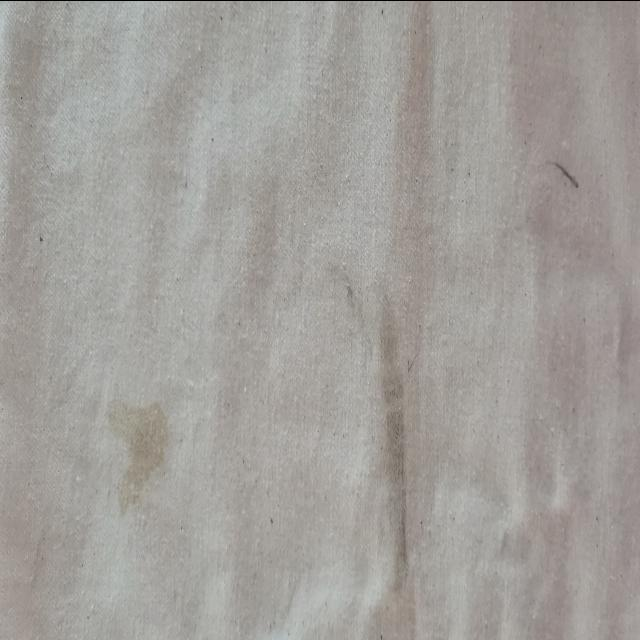taaaches: (362, 251, 422, 621), (94, 370, 183, 542), (314, 218, 356, 348), (544, 132, 586, 206)
